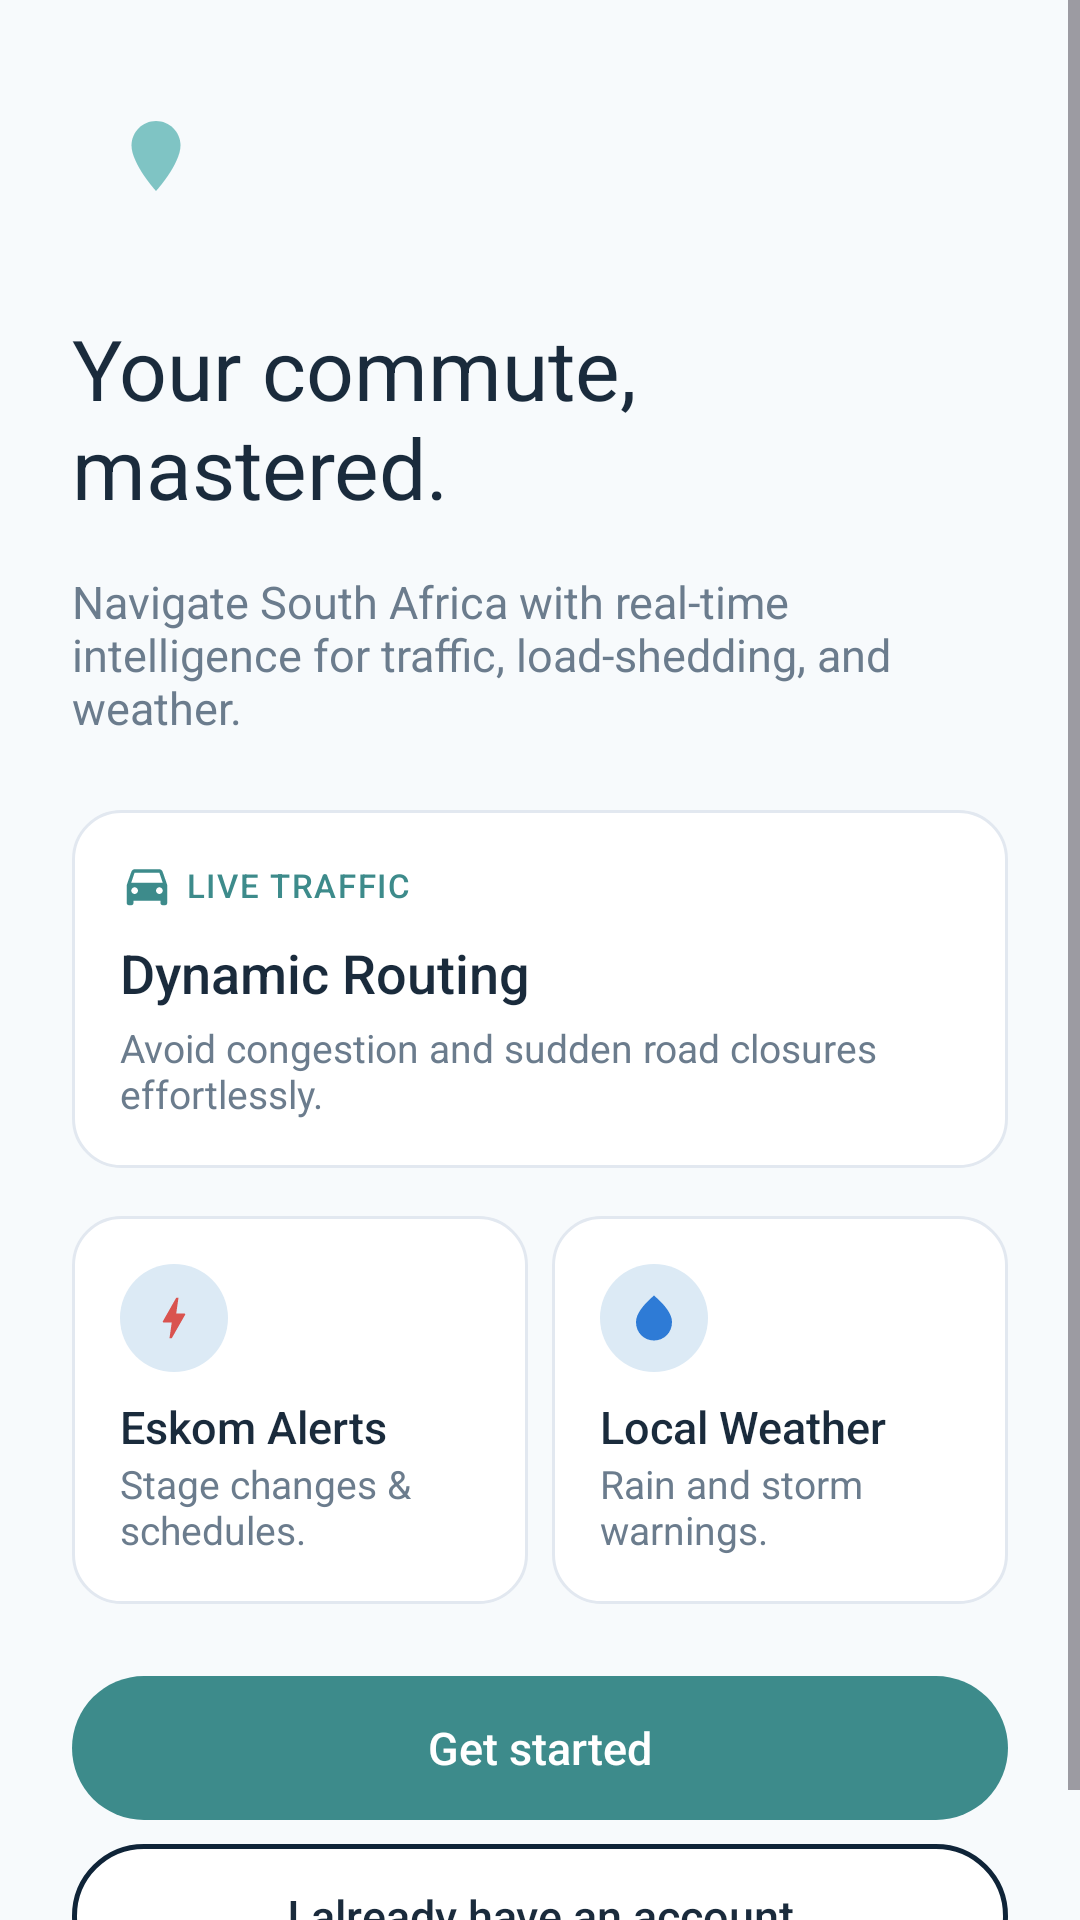

Named icons in this screenshot (1080 x 1920) and their bounding boxes, (x1, y1, x2, y2):
bolt: (162, 1297, 186, 1339)
directions car: (126, 869, 168, 906)
water drop: (636, 1295, 672, 1341)
